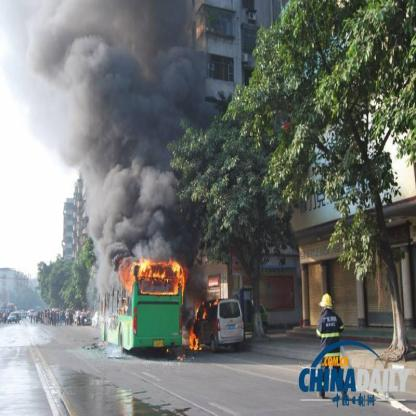fire: (118, 250, 182, 296), (184, 324, 202, 356), (196, 296, 218, 318)
smoke: (35, 4, 201, 245)
